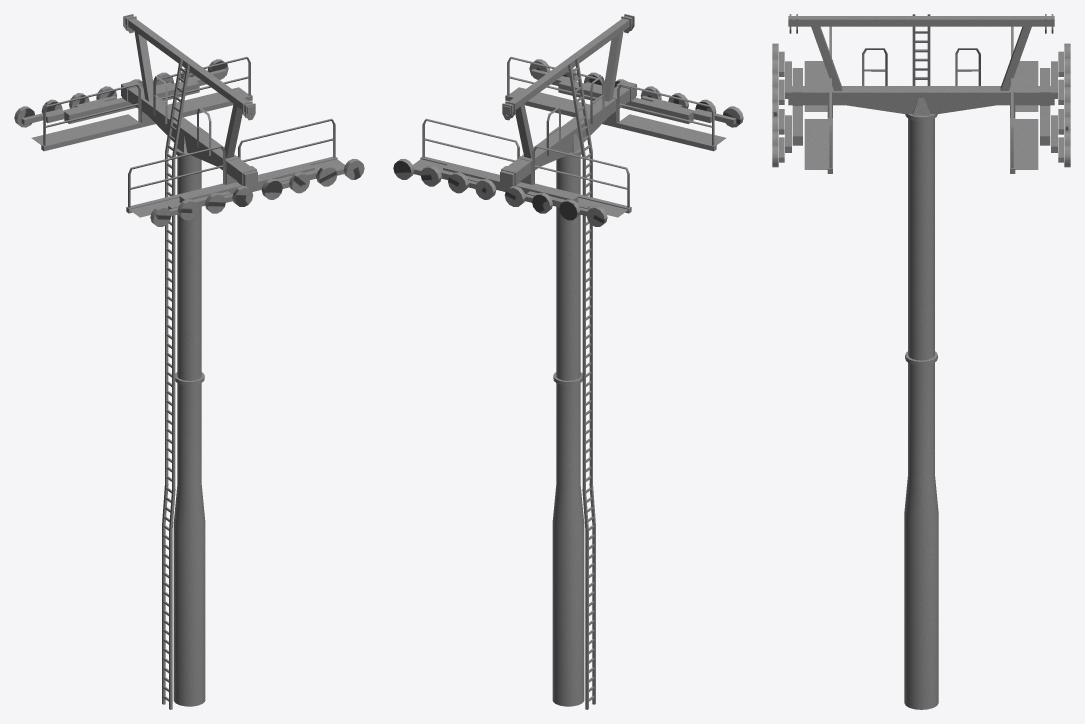
3 views of the same model, side by side, from view 1: azimuth 30°, elevation 25°; view 2: azimuth 150°, elevation 25°; view 3: azimuth 270°, elevation 25° (orthographic). The views are drawn at different scales.
Visible parts, largest first — view 1: Cylinder.009; view 2: Cylinder.009; view 3: Cylinder.009.
Boxes of the visible parts, left/top/right/bottom form: Cylinder.009: left=14, top=14, right=364, bottom=709; Cylinder.009: left=393, top=14, right=743, bottom=709; Cylinder.009: left=772, top=14, right=1070, bottom=709.
Size of the model in its own units: 9.81 by 28.44 by 11.17.
1 material, 1 textured.
